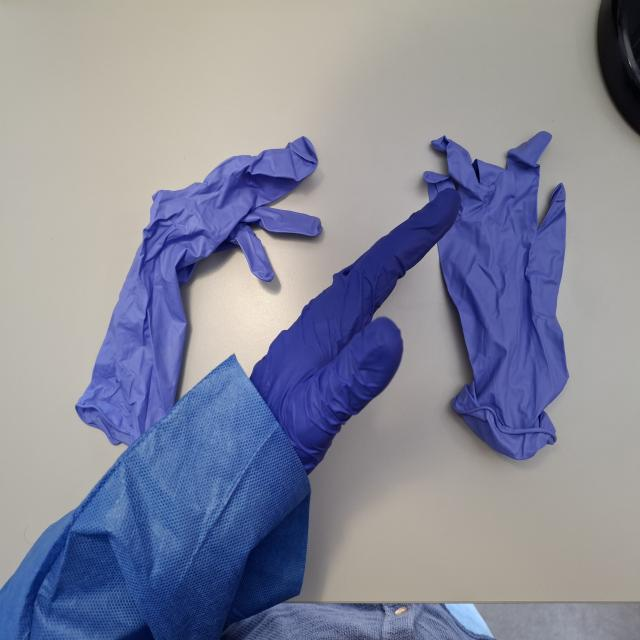glove_on: (245, 184, 464, 487)
